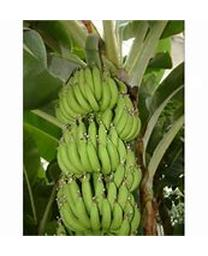banana: (54, 33, 141, 235)
